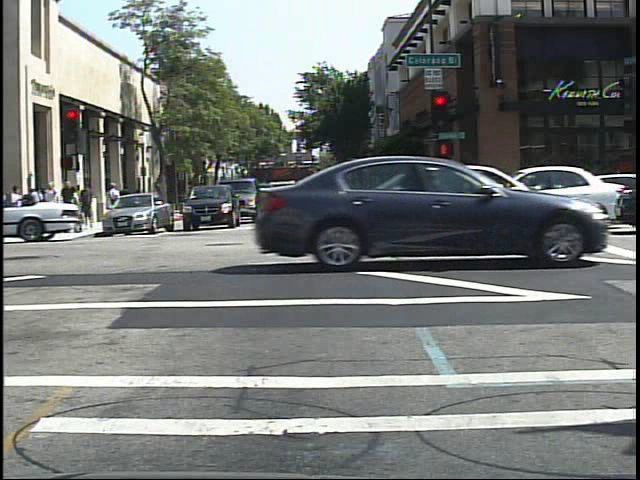person: (103, 179, 122, 225)
